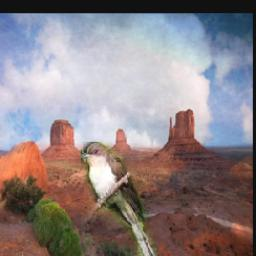Cuckoo: (80, 142, 163, 256)
